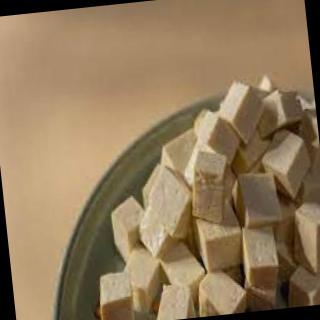Tahu: (9, 65, 320, 320)
